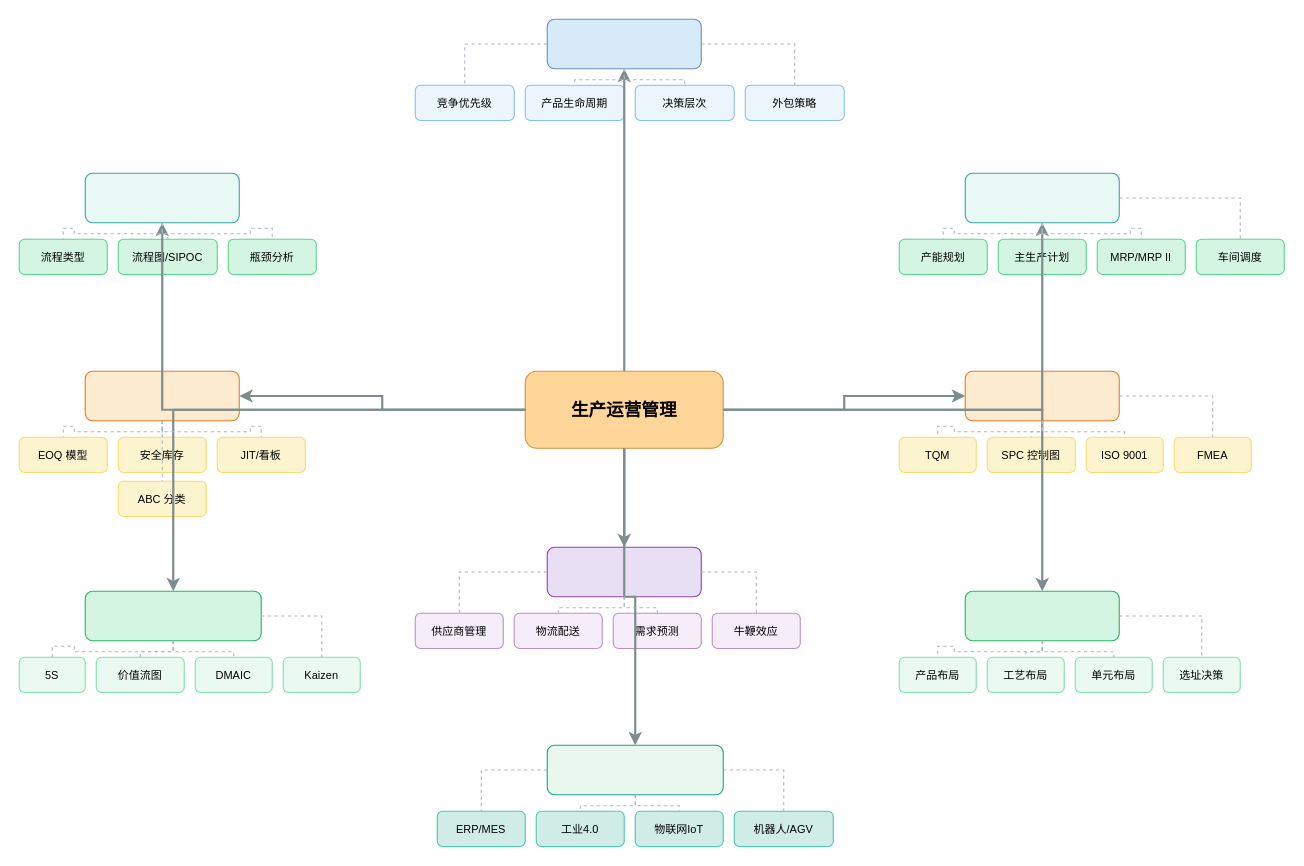
Image size: 1304x866. Some labels were removed from this diagram. The shapes that lost their labels are listed below. From the top down, each one's box as (x1, y1, x2, y2) in pixels, then its label:
(546, 18, 701, 69): 运营战略
(84, 172, 239, 223): 流程设计
(964, 172, 1119, 223): 产能与排程
(84, 370, 239, 421): 库存管理
(964, 370, 1119, 421): 质量管理
(546, 546, 701, 597): 供应链管理
(84, 590, 261, 641): 精益 / 六西格玛
(964, 590, 1119, 641): 布局与设施
(546, 744, 723, 795): 技术与自动化
